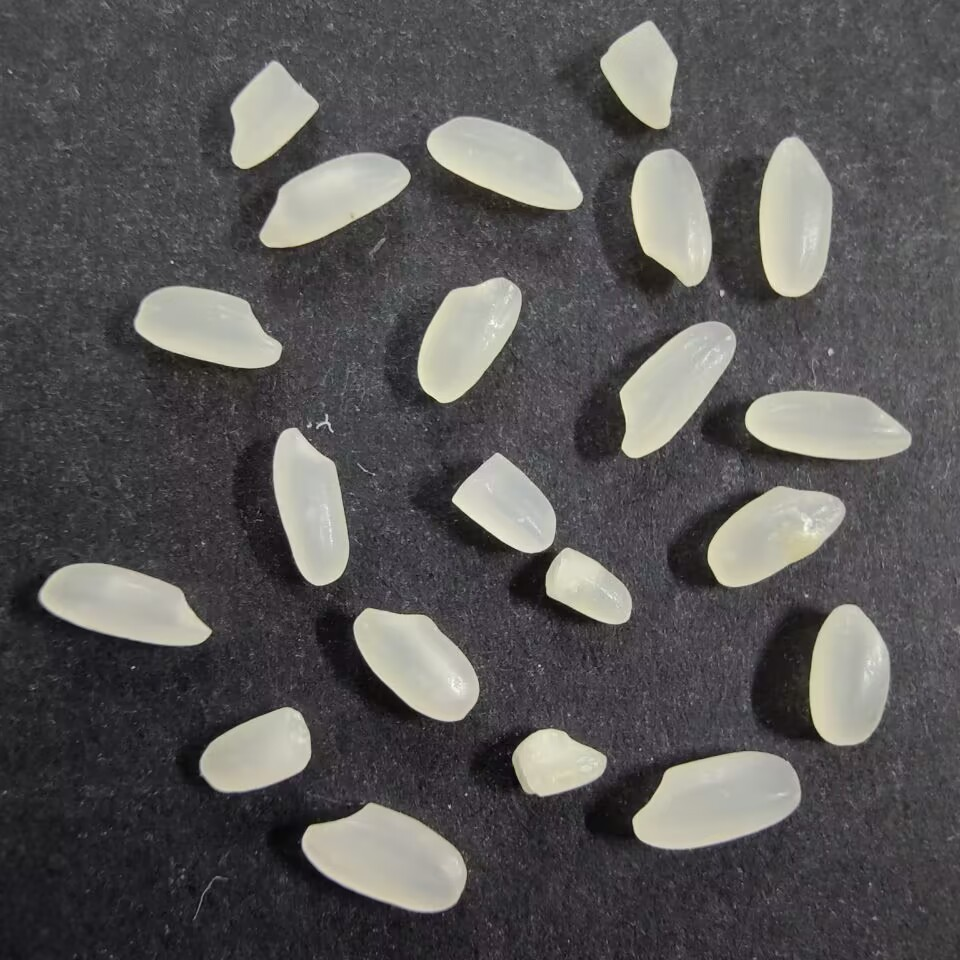broken: (220, 55, 326, 170), (452, 448, 559, 559), (193, 701, 315, 797), (598, 19, 676, 134), (542, 544, 635, 627), (506, 726, 610, 800)
rice: (296, 799, 470, 915), (630, 747, 807, 854), (615, 318, 742, 459), (34, 560, 215, 652), (423, 113, 586, 213), (348, 606, 482, 726), (255, 151, 414, 251), (706, 480, 849, 591), (413, 274, 525, 409), (754, 131, 837, 301), (132, 284, 284, 375), (805, 601, 896, 748), (271, 426, 352, 589), (742, 388, 915, 463), (629, 146, 713, 289)
